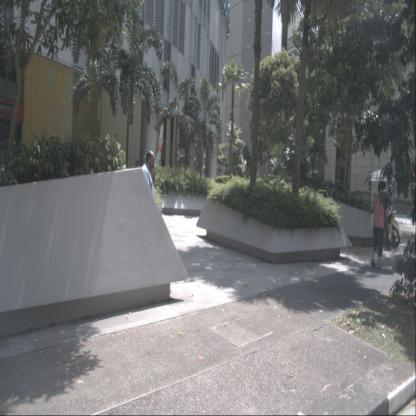human-pedestrian-adult: (364, 170, 395, 269), (140, 150, 156, 260)
vehicle-bicycle: (384, 199, 400, 251)
